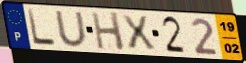2: (188, 16, 220, 56), (161, 15, 188, 55)
H: (89, 12, 127, 53)
L: (26, 8, 59, 48)
U: (53, 10, 90, 49)
X: (119, 13, 158, 51)
